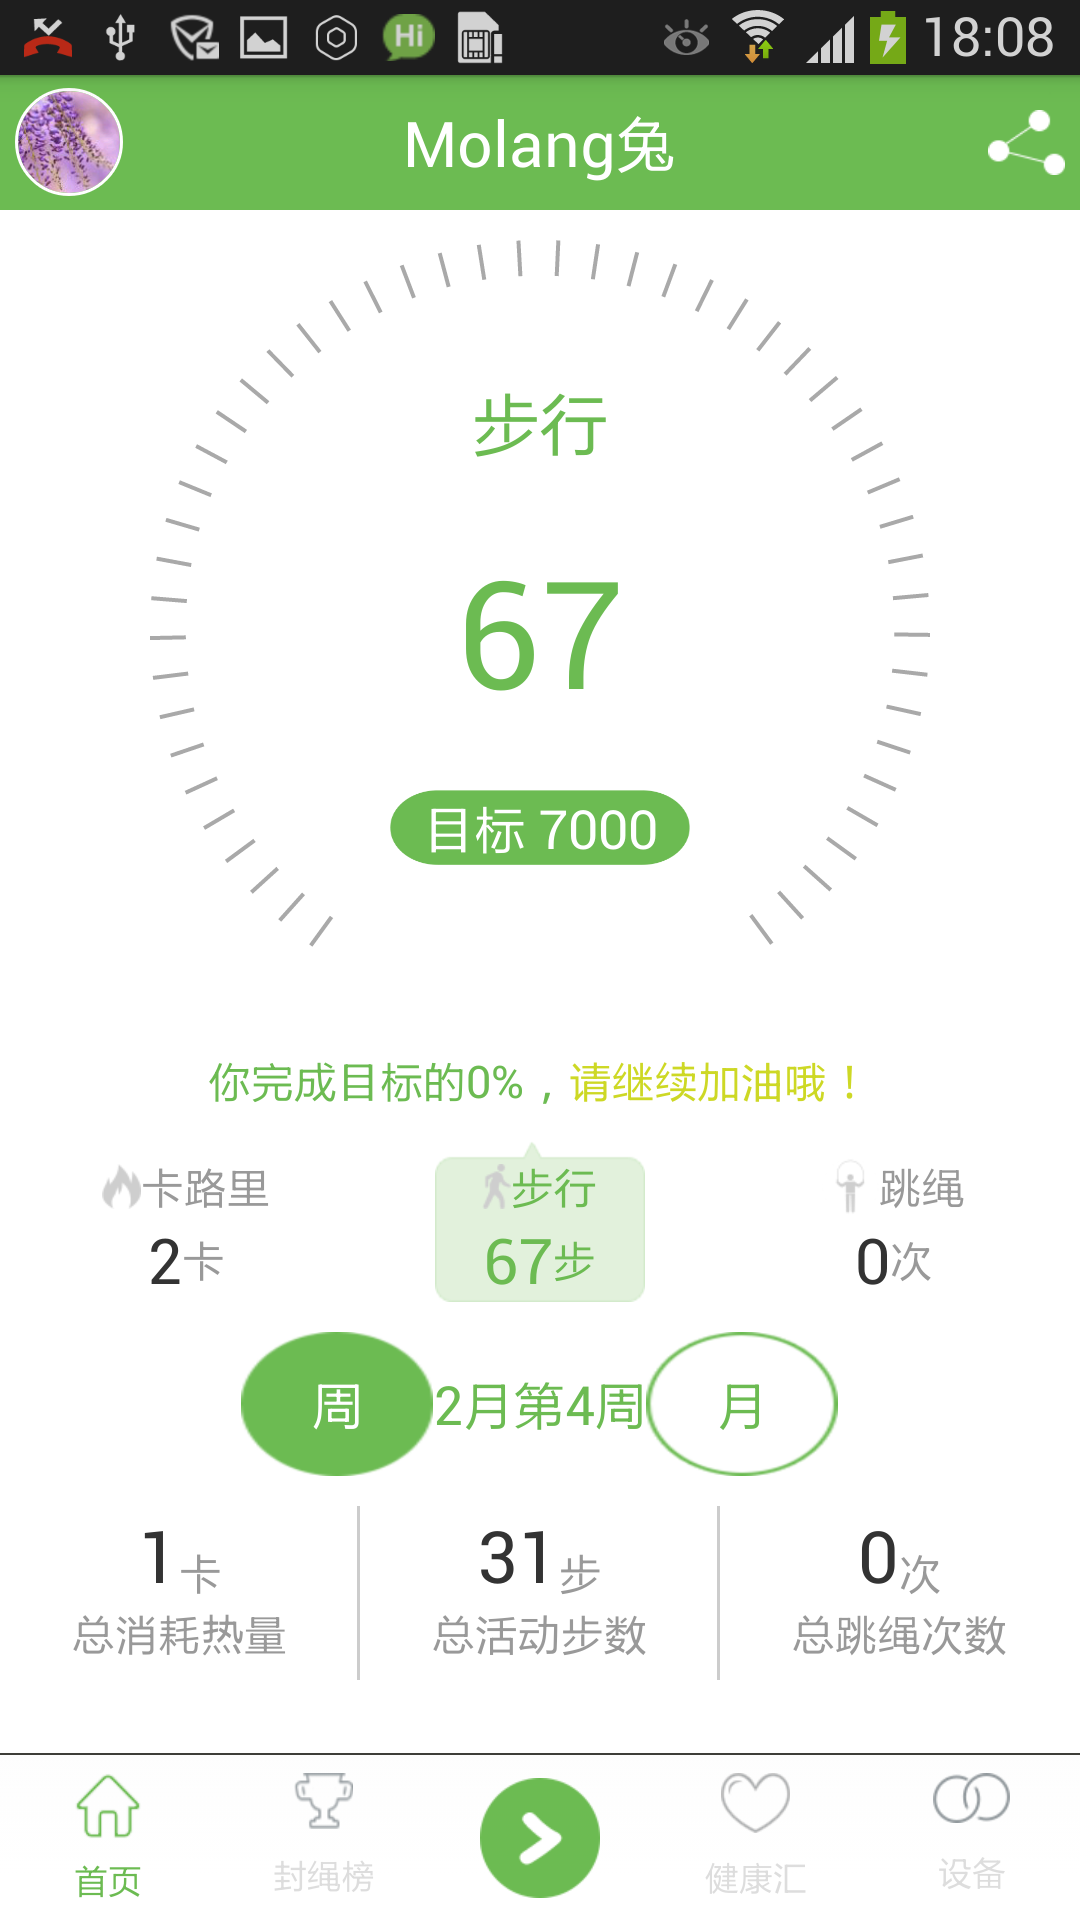textview: (186, 1047, 887, 1120)
